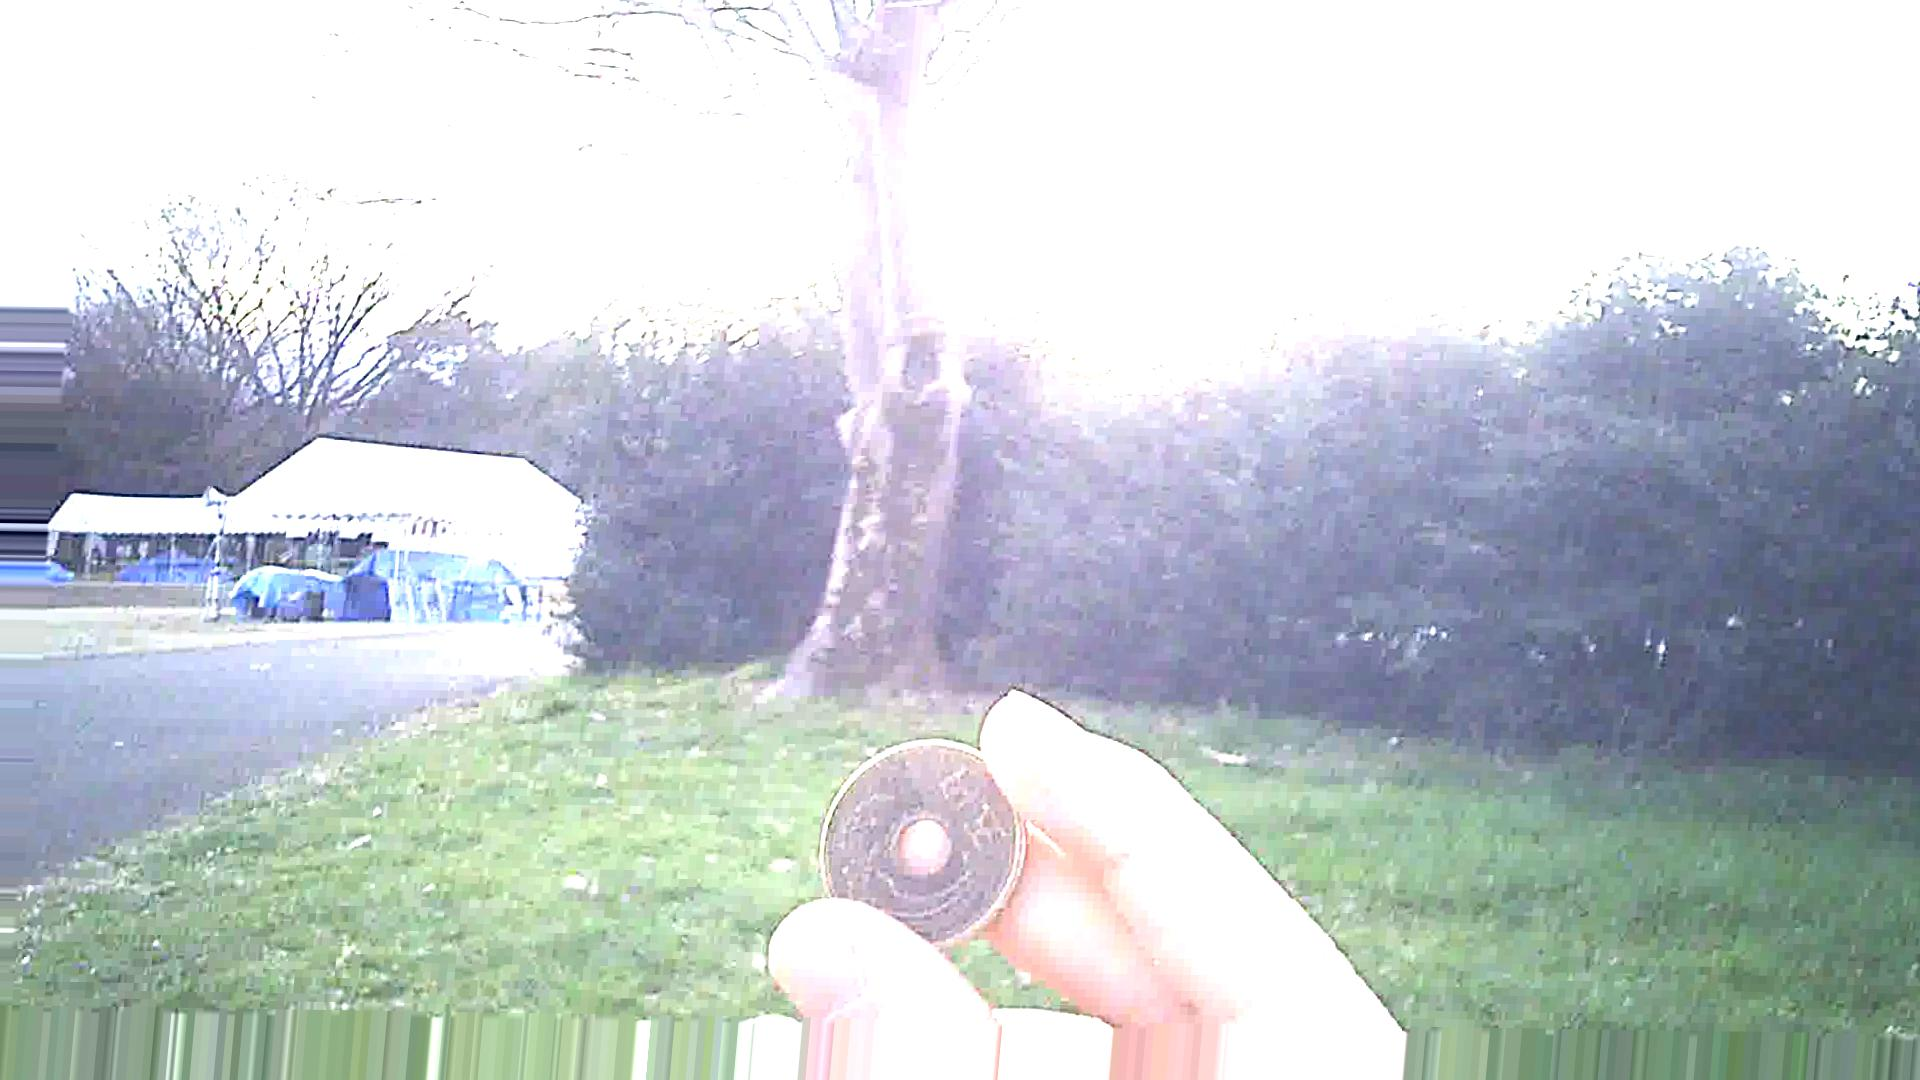5 Yen: (818, 738, 1025, 957)
